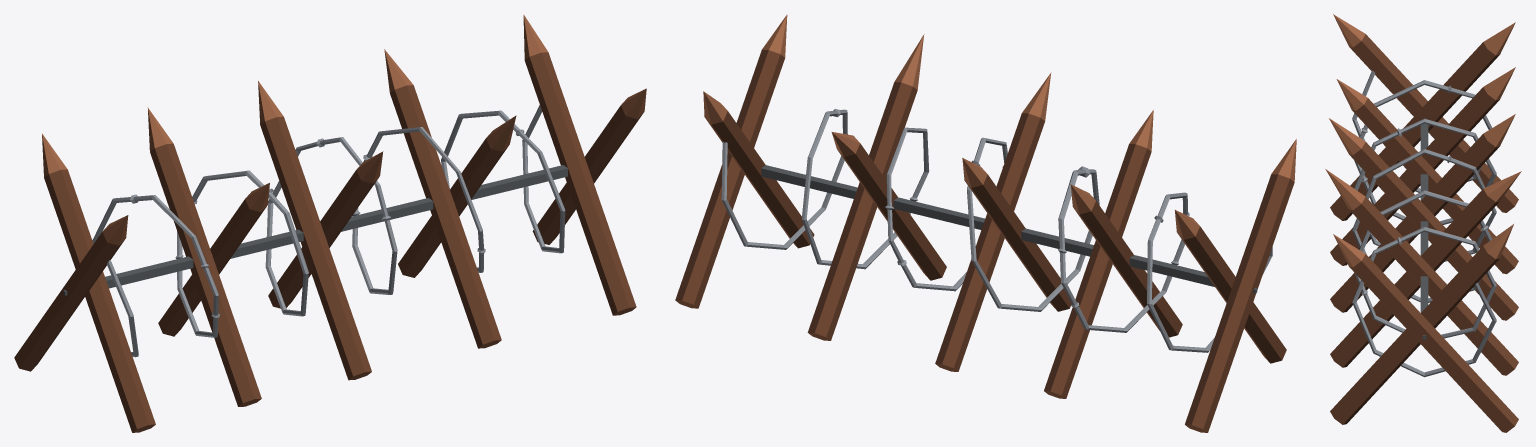
File: SmallFence_02.fbx
3 views of the same model, side by side, from view 1: azimuth 30°, elevation 25°; view 2: azimuth 150°, elevation 25°; view 3: azimuth 270°, elevation 25° (orthographic). The views are drawn at different scales.
Visible parts, largest first — view 1: SmallFence_02; view 2: SmallFence_02; view 3: SmallFence_02.
Part boxes in pixels (x1=…): SmallFence_02: x1=14, y1=14, x2=646, y2=432; SmallFence_02: x1=675, y1=14, x2=1296, y2=432; SmallFence_02: x1=1325, y1=14, x2=1521, y2=432.
Bounding box in the file's own units: 264 × 111 × 95.7.
